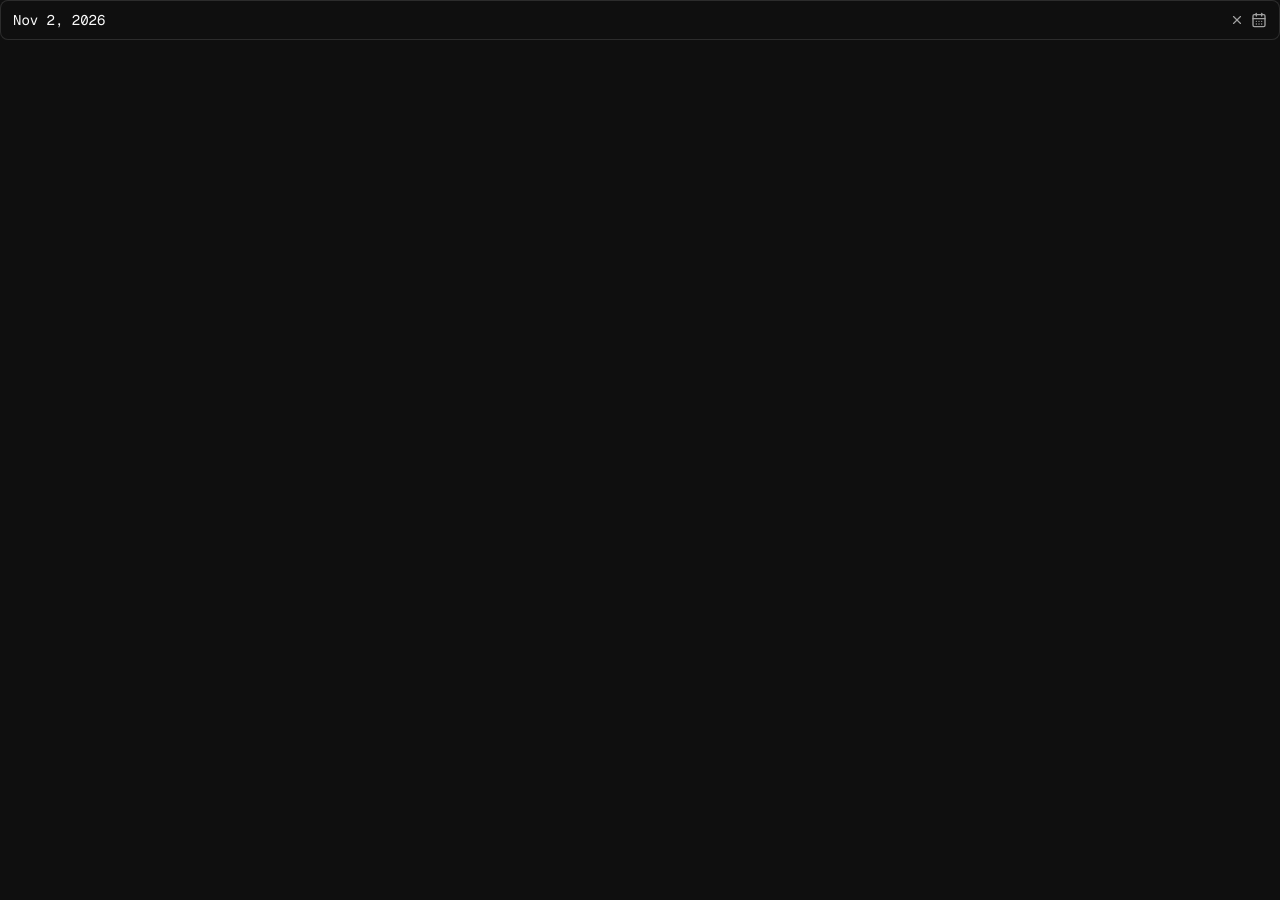
DateField popup › navigates months with the arrow buttons
Click the button "Nov 2, 2026": (59,20) [13,10,1223,30]
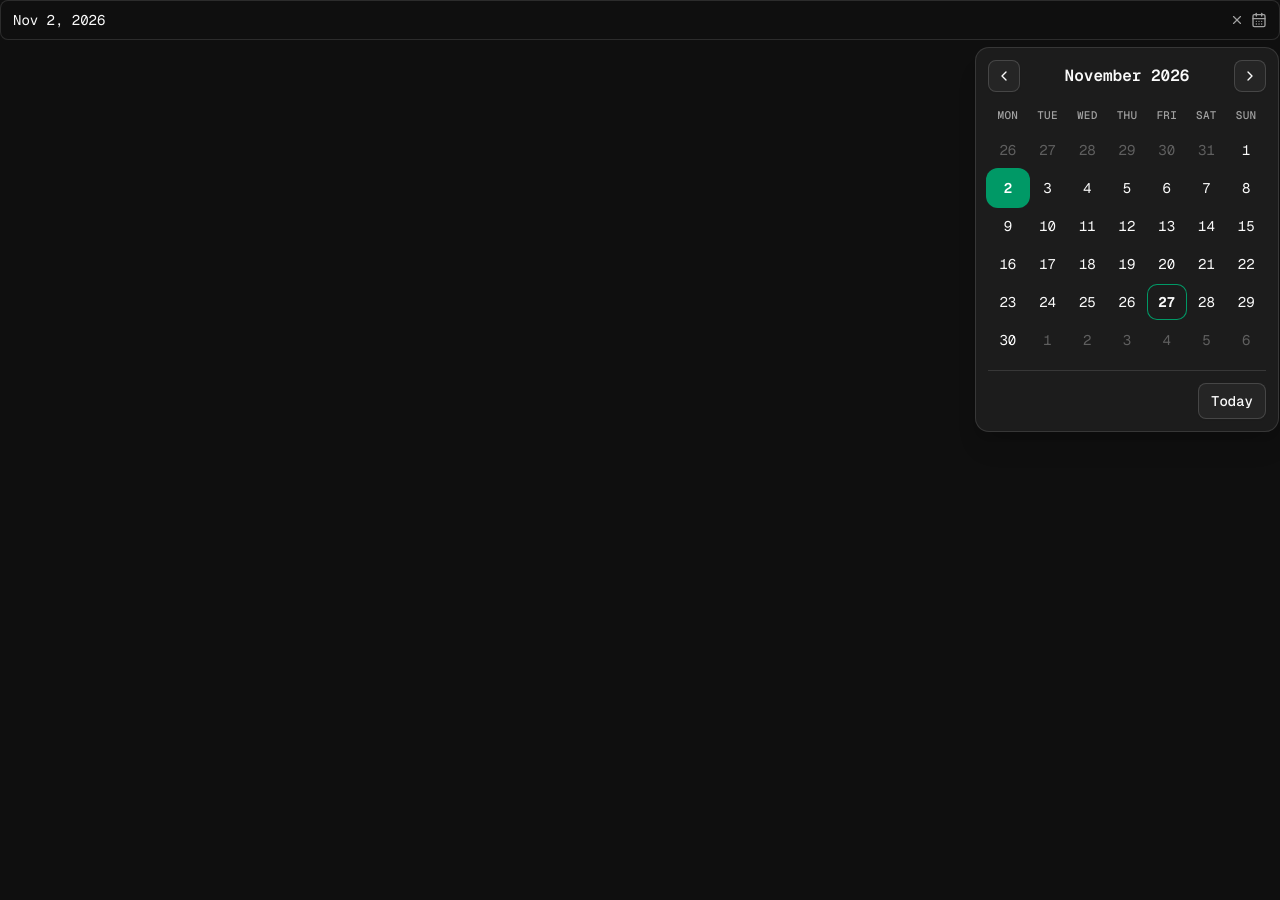
Click the button named "next month": (1250,76) [1234,60,1266,92]
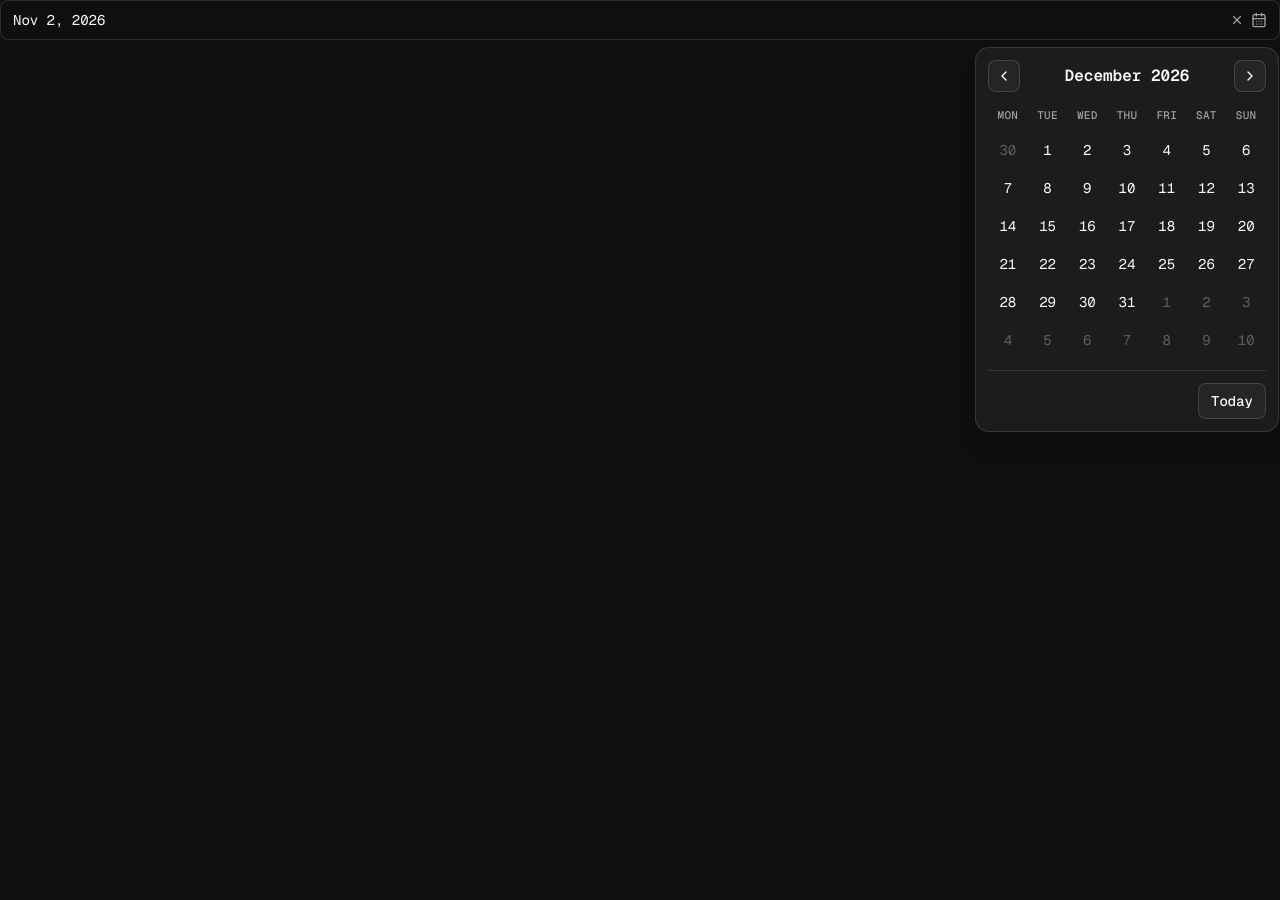
Now the text "December 2026" is shown, box [1065,64,1189,88]
Click the button named "previous month": (1004,76) [988,60,1020,92]
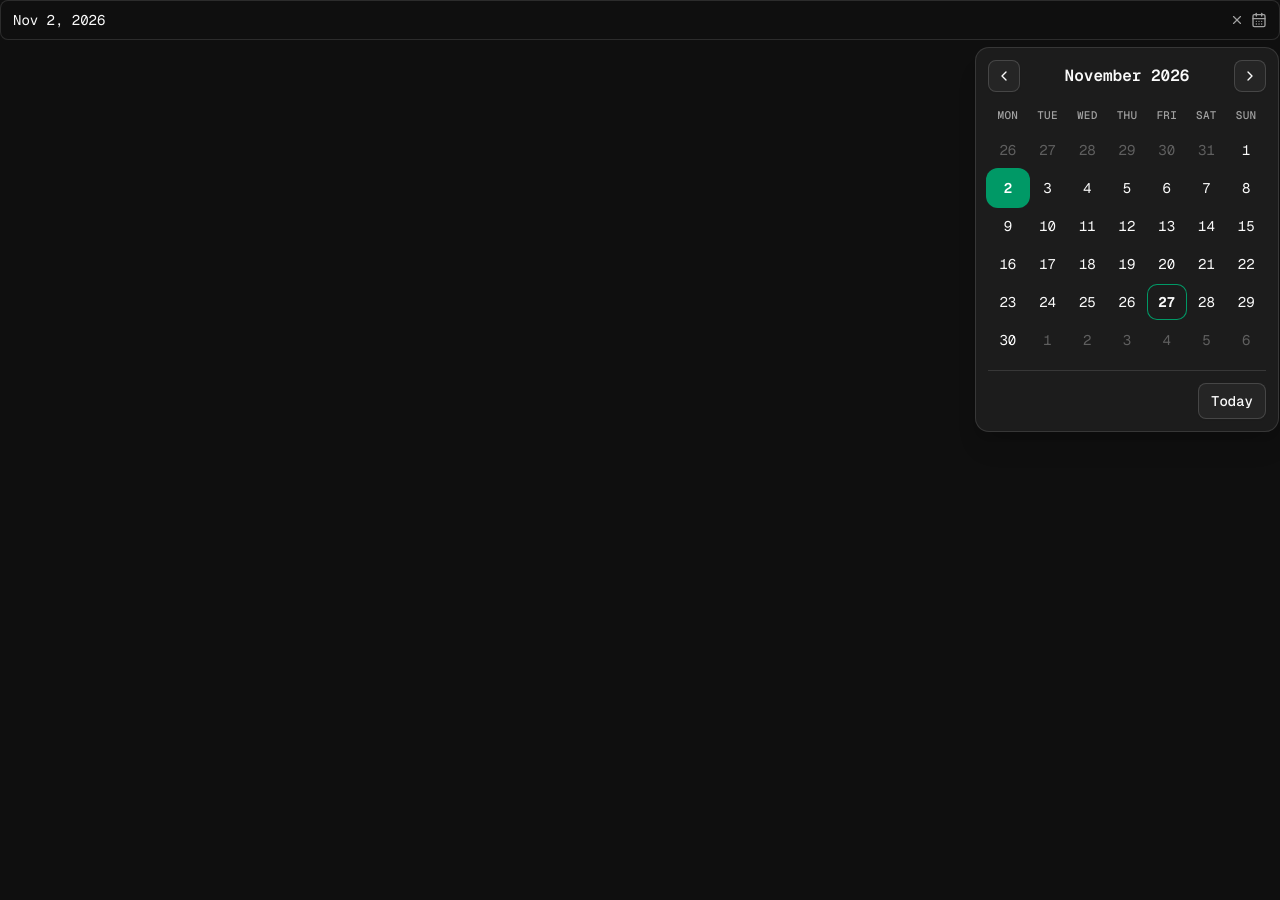
Click the button named "previous month": (1004,76) [988,60,1020,92]
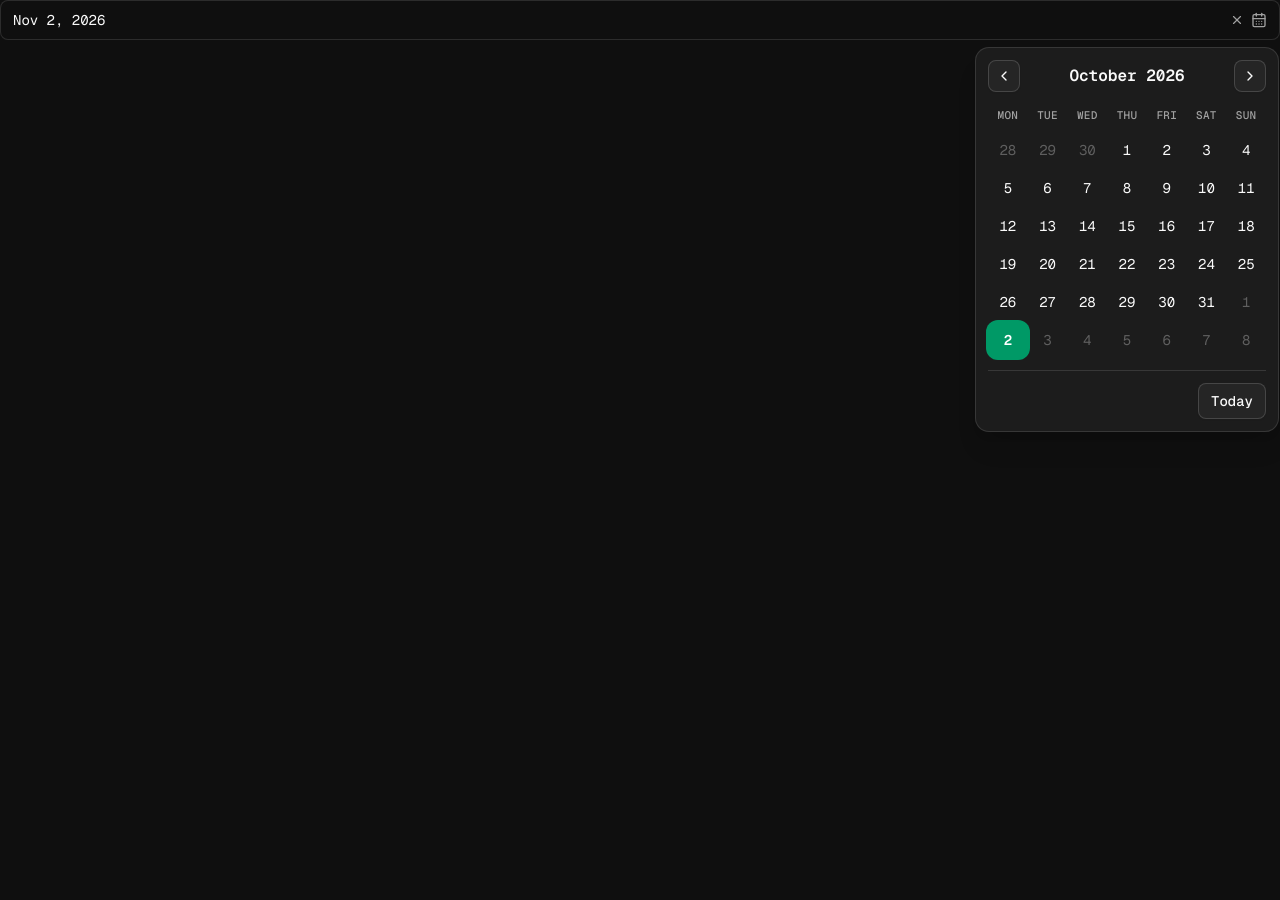
Now the text "October 2026" is shown, box [1069,64,1185,88]
